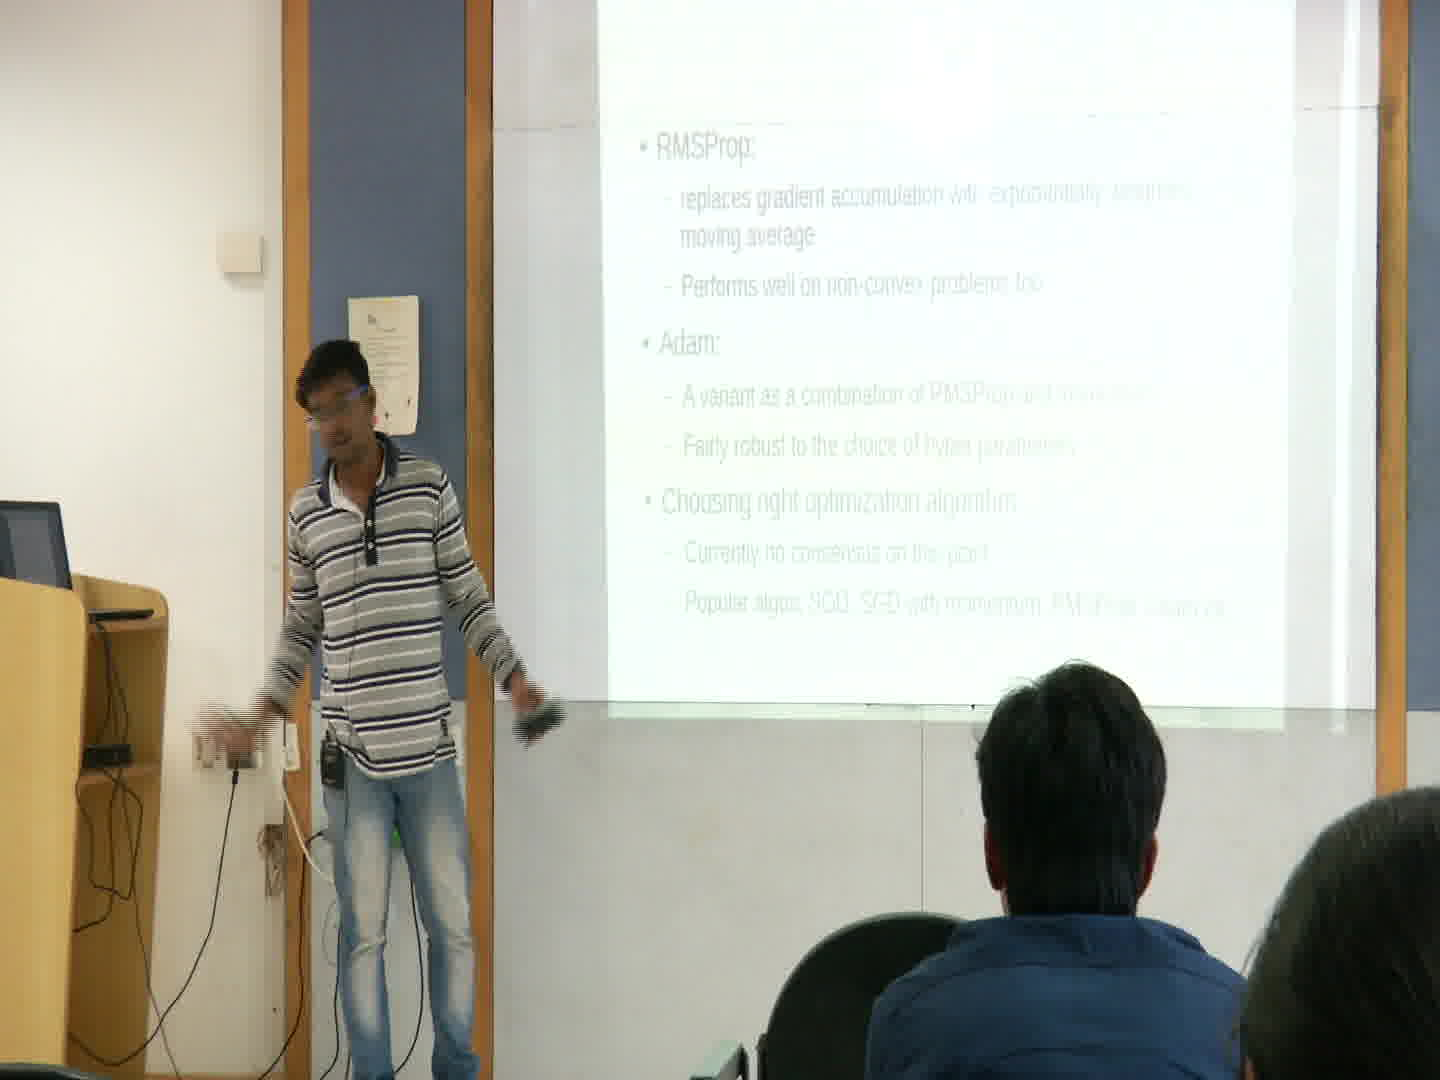slide: (600, 1, 1290, 731)
